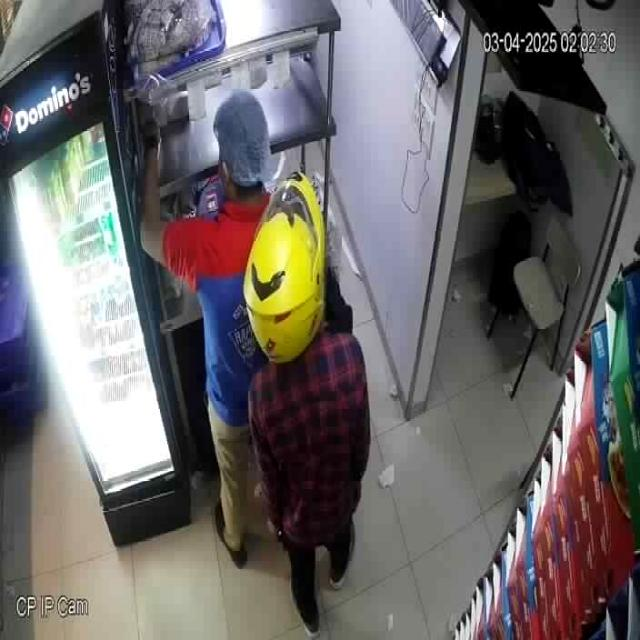no_helmet: (242, 169, 327, 361), (213, 87, 270, 205)
